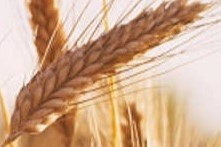Healthy Wheat: (17, 1, 204, 130)
